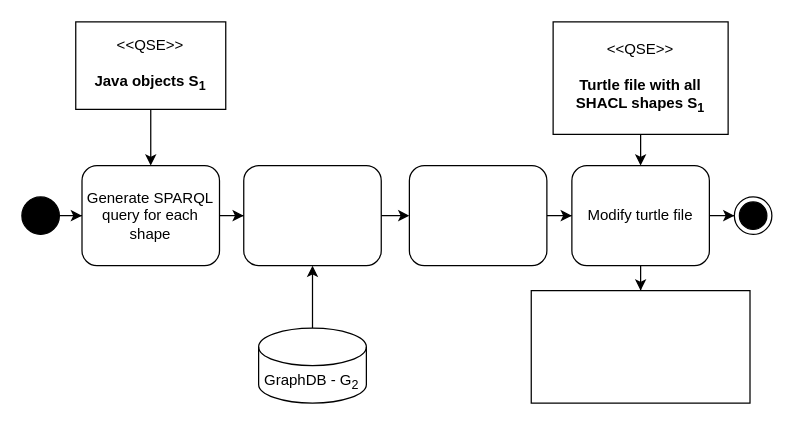
Image size: 794x425. Some labels were removed from this diagram. Here are the shapes that lost their labels. From the top down, the box of each, then its label:
(242, 164, 381, 266): Update support and confidence values based on results from G 2
(408, 164, 547, 266): Compare updated support and confidence values to thresholds
(530, 289, 750, 403): <<SPARQL- ShapeChecker >> Turtle file with all SHACL shapes S 2*
